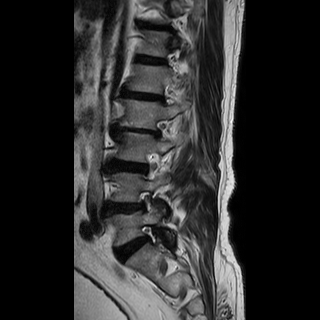RFS0: (136, 218, 164, 250), (133, 185, 160, 217)
